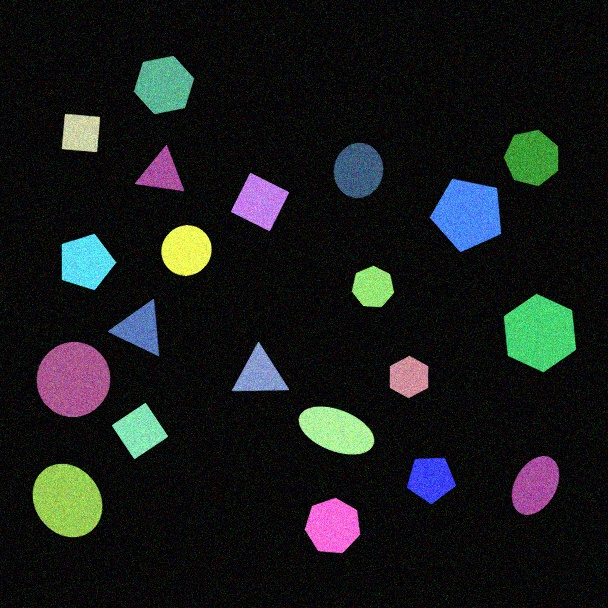Circulo: (36, 341, 111, 418), (333, 142, 384, 199), (161, 224, 212, 277)
Elipse: (32, 463, 103, 538), (298, 406, 375, 455), (511, 455, 560, 516)
Heptagono: (304, 497, 361, 554), (503, 129, 559, 187), (351, 265, 395, 308)
Hexagono: (503, 293, 577, 373), (133, 55, 195, 115), (389, 355, 429, 399)
Pentagono: (429, 178, 502, 253), (61, 233, 117, 291), (406, 457, 457, 505)
Quadrado: (230, 172, 290, 232), (111, 402, 169, 460), (61, 113, 101, 153)
Triangulo: (108, 298, 160, 357), (231, 342, 290, 392), (134, 145, 185, 192)
